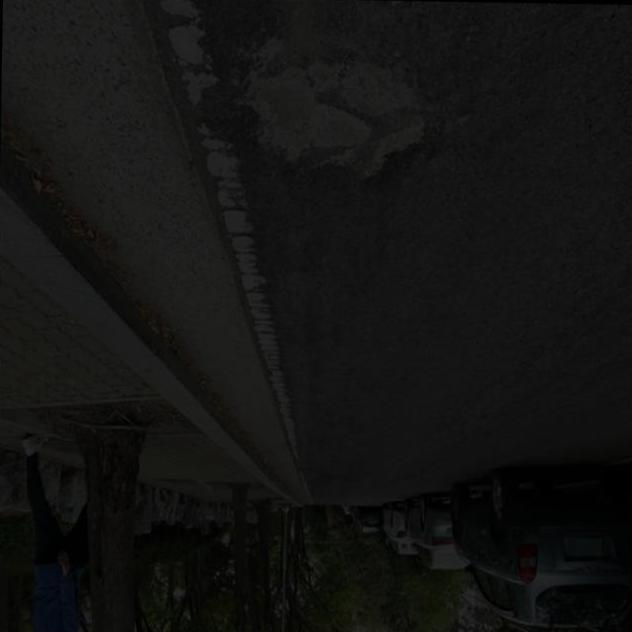pothole: (224, 34, 438, 194)
